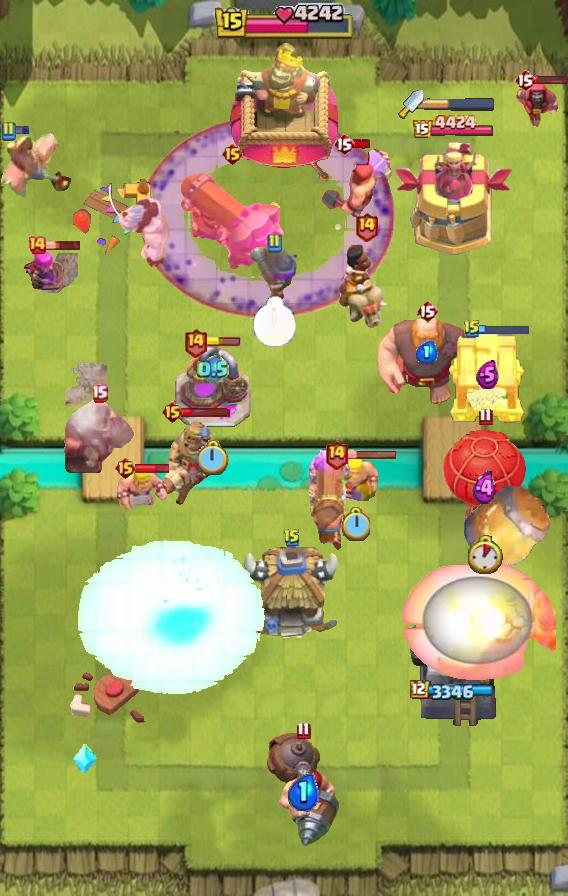archer: (114, 464, 172, 520), (325, 455, 385, 501)
balloon: (373, 314, 481, 406)
bar: (395, 142, 514, 256)
battle-healer: (308, 449, 354, 553)
bomb: (447, 330, 527, 424)
bomb-tower: (248, 244, 300, 304)
bowler: (513, 78, 561, 130)
cannon-cart: (440, 425, 530, 535)
clock: (213, 3, 355, 43)
dirt: (461, 484, 551, 572)
electro-spirit: (287, 773, 319, 811), (197, 355, 229, 384), (472, 471, 498, 505), (477, 360, 500, 389), (416, 340, 438, 364)
elite-barbarian: (338, 244, 394, 332)
elixir: (251, 296, 296, 348), (469, 535, 504, 574), (199, 441, 230, 476), (342, 507, 371, 541)
emote: (478, 323, 530, 335), (346, 448, 398, 459), (181, 406, 231, 417), (45, 239, 83, 251), (135, 462, 170, 473), (534, 75, 568, 86), (205, 337, 241, 347), (8, 124, 30, 135), (352, 138, 372, 150)
evolution-symbol: (23, 243, 75, 299)
fisherman: (63, 361, 107, 409), (40, 253, 78, 293)
freeze: (0, 133, 76, 199)
furnace: (178, 170, 286, 270)
king-tower: (230, 43, 338, 181)
king-tower-bar: (424, 97, 496, 111)
mega-knight: (74, 537, 271, 699)
mighty-miner: (322, 141, 396, 223)
pad_2: (72, 743, 98, 775)
pekka: (174, 347, 252, 429)
prince: (241, 547, 343, 643)
rage: (115, 196, 175, 268)
ram-rider: (157, 417, 223, 507)
rocket: (139, 115, 395, 319)
royal-guardian: (60, 393, 138, 473)
selected: (413, 114, 496, 141), (410, 680, 496, 702)
text: (353, 210, 378, 241), (183, 326, 208, 357), (323, 438, 348, 469), (114, 456, 138, 480), (221, 142, 244, 166), (161, 400, 184, 424), (514, 68, 536, 92), (333, 132, 355, 156), (416, 299, 438, 323), (27, 235, 47, 255), (463, 319, 481, 339), (283, 528, 301, 548), (0, 121, 16, 141), (266, 233, 282, 253), (91, 385, 108, 403), (296, 721, 311, 739), (479, 407, 493, 426)
tower-bar: (408, 599, 498, 731)
valkyrie: (400, 561, 556, 681)
wizard: (265, 731, 341, 849)
